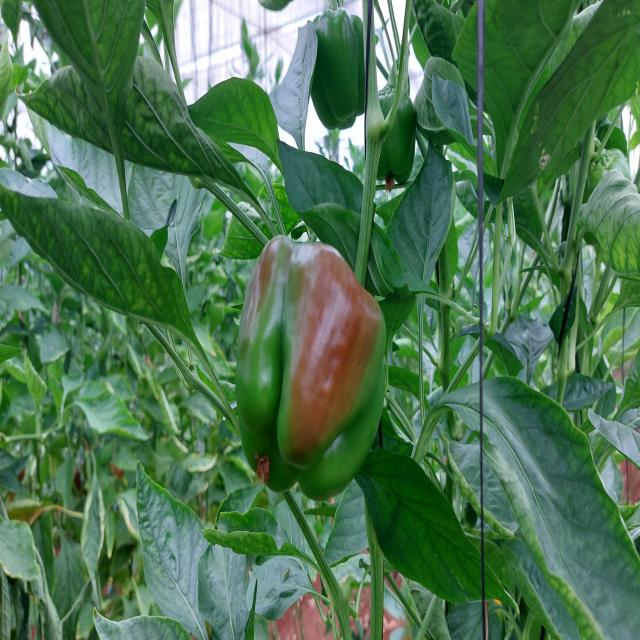BrownishRed--Can-be-Harvested: (239, 234, 390, 498)
Green--Not-ready-to-harvest: (306, 15, 371, 124), (383, 86, 416, 174)
